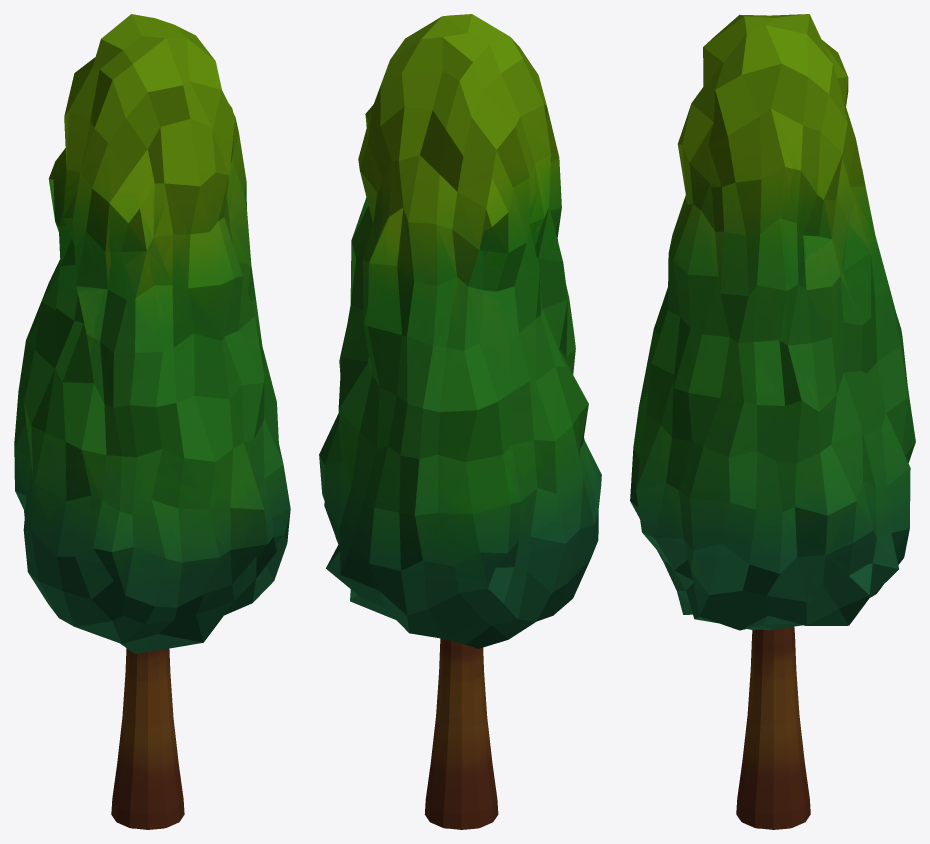
Rendered from SM_VEG_Tree02.fbx.
The picture shows the model from 3 angles, left to right: view 1: azimuth 30°, elevation 25°; view 2: azimuth 150°, elevation 25°; view 3: azimuth 270°, elevation 25°; orthographic projection.
Parts seen in each view (by area): view 1: TREE_CANOPY, TREE_TRUNK; view 2: TREE_CANOPY, TREE_TRUNK; view 3: TREE_CANOPY, TREE_TRUNK.
Boxes of the visible parts, x1=… form: TREE_CANOPY: x1=14, y1=14, x2=290, y2=654; TREE_TRUNK: x1=111, y1=648, x2=184, y2=829; TREE_CANOPY: x1=319, y1=14, x2=601, y2=648; TREE_TRUNK: x1=424, y1=638, x2=498, y2=829; TREE_CANOPY: x1=630, y1=14, x2=915, y2=630; TREE_TRUNK: x1=736, y1=626, x2=810, y2=829.
Size of the model in its own units: 225 by 722 by 233.
Materials: 1 (1 with a texture image).
